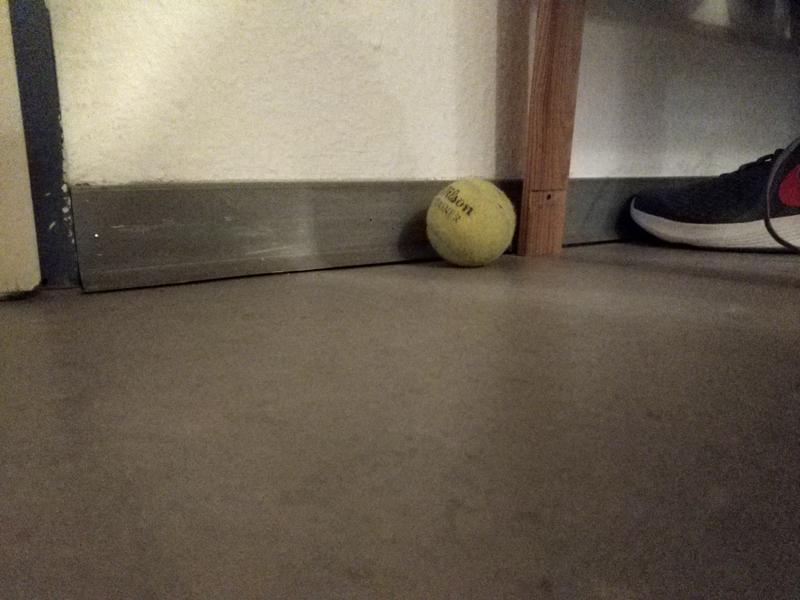Tennisball: (424, 173, 520, 270)
